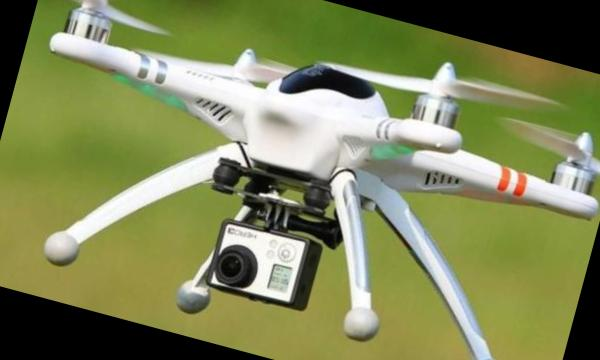drone: (14, 0, 600, 301)
